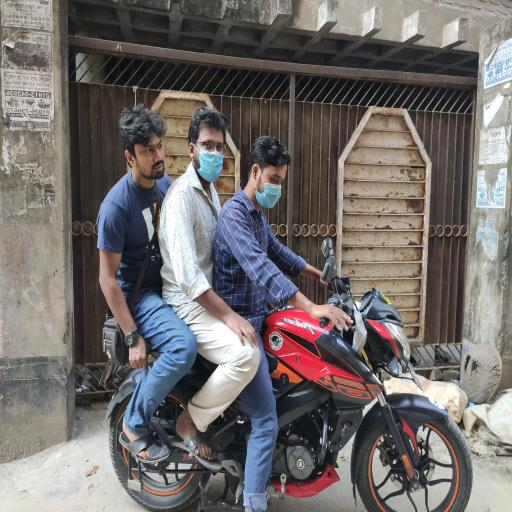helmet: (460, 341, 503, 405)
overloading: (98, 238, 474, 510)
